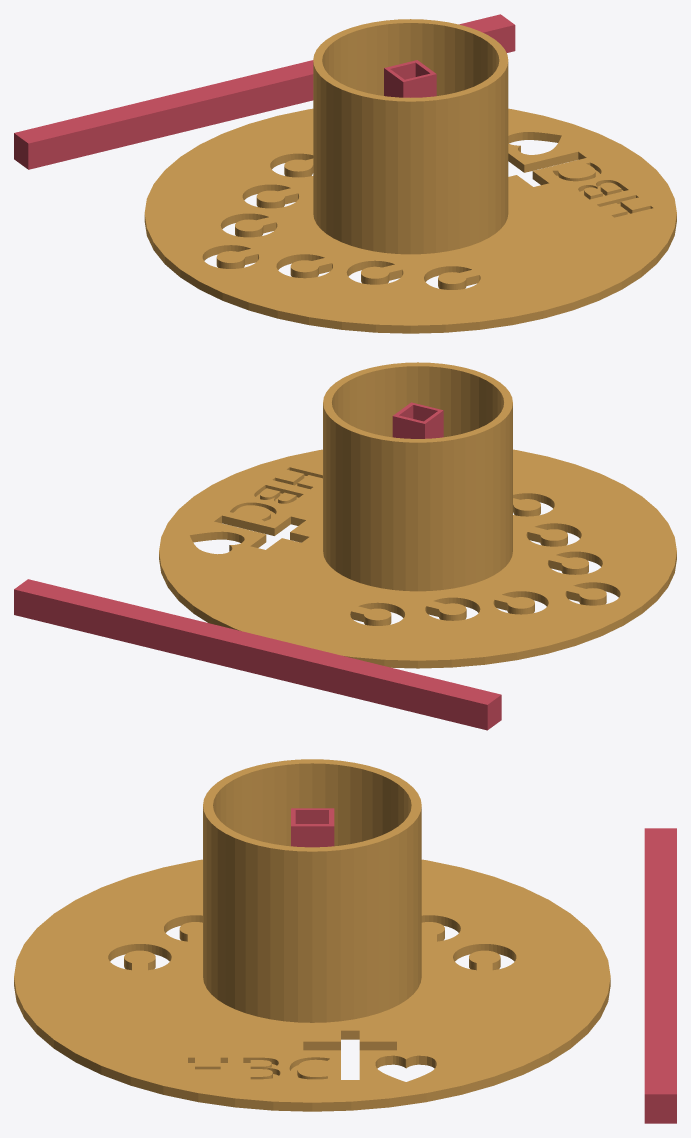
Rendered from base_demo.glb.
3 renders of one model, top to bottom at view 1: azimuth 30°, elevation 25°; view 2: azimuth 150°, elevation 25°; view 3: azimuth 270°, elevation 25°, orthographic. The views are drawn at different scales.
Parts seen in each view (by area): view 1: Mesh_Mesh_head_geo.001_lambert2SG.001; view 2: Mesh_Mesh_head_geo.001_lambert2SG.001; view 3: Mesh_Mesh_head_geo.001_lambert2SG.001.
Part boxes in pixels (bbox=[...]): Mesh_Mesh_head_geo.001_lambert2SG.001: bbox=[14, 14, 676, 333]; Mesh_Mesh_head_geo.001_lambert2SG.001: bbox=[14, 362, 676, 730]; Mesh_Mesh_head_geo.001_lambert2SG.001: bbox=[14, 759, 676, 1123].
Bounding box in the file's own units: 95 × 30 × 100.
